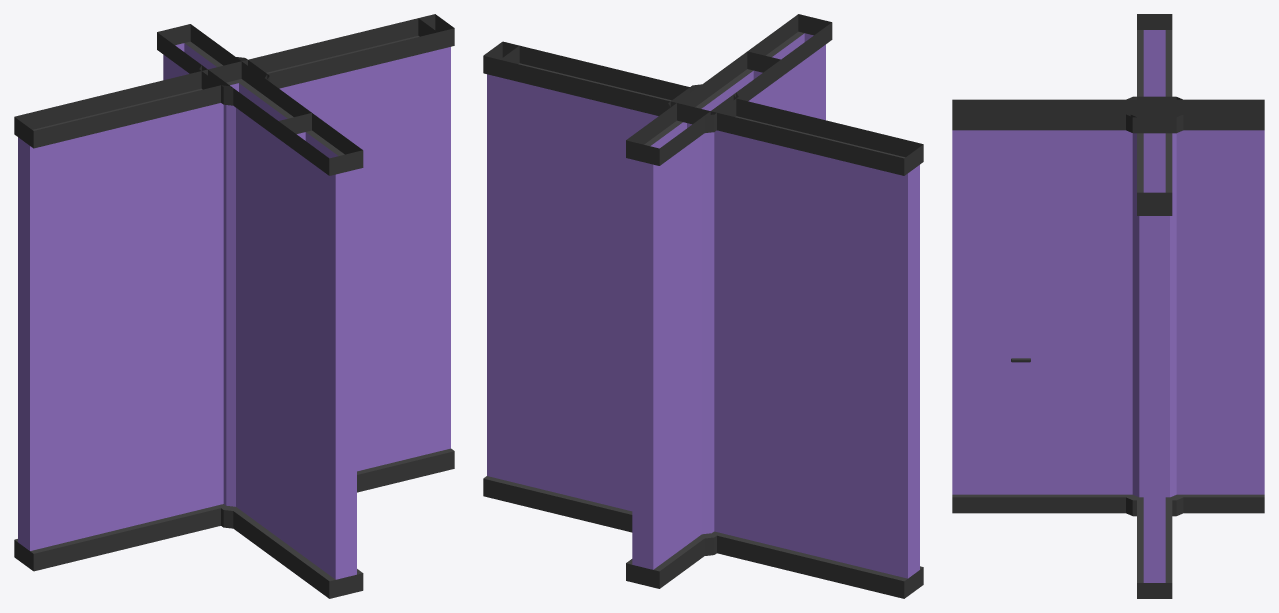
The model's file is structure.fbx.
The picture shows the model from 3 angles, left to right: view 1: azimuth 30°, elevation 25°; view 2: azimuth 150°, elevation 25°; view 3: azimuth 270°, elevation 25°; orthographic projection. The views are drawn at different scales.
Visible parts, largest first — view 1: Cube.006, Cube.007, Cube.002, Cube, Cube.001; view 2: Cube.006, Cube.007, Cube.002, Cube.001, Cube; view 3: Cube.001, Cube.006, Cube.002, Cube.007.
Boxes of the visible parts, bbox=[...] form: Cube.006: bbox=[14, 14, 454, 598]; Cube.007: bbox=[208, 18, 437, 598]; Cube.002: bbox=[157, 26, 310, 560]; Cube: bbox=[157, 24, 311, 560]; Cube.001: bbox=[184, 41, 289, 543]; Cube.006: bbox=[483, 14, 923, 598]; Cube.007: bbox=[500, 14, 832, 532]; Cube.002: bbox=[626, 60, 780, 588]; Cube.001: bbox=[626, 51, 780, 588]; Cube: bbox=[626, 57, 780, 588]; Cube.001: bbox=[1044, 99, 1264, 513]; Cube.006: bbox=[952, 14, 1172, 598]; Cube.002: bbox=[1126, 96, 1183, 516]; Cube.007: bbox=[952, 115, 1172, 530].
Size of the model in its own units: 400 by 400 by 284.
